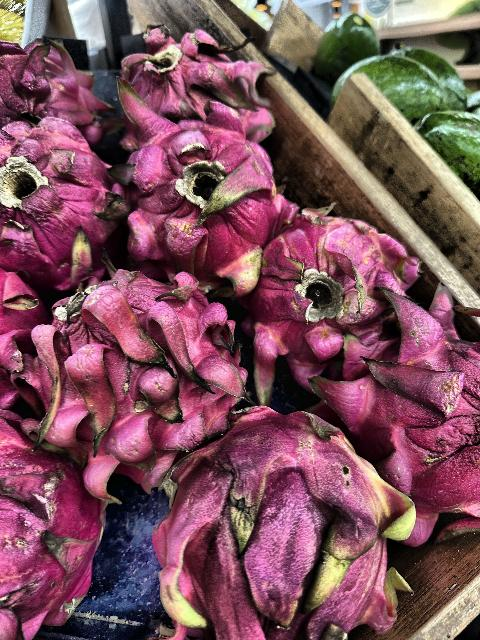buah-naga-belum-matang: (161, 402, 415, 640)
buah-naga-matang: (24, 271, 236, 469), (330, 315, 480, 531), (239, 196, 413, 364), (108, 104, 282, 268), (0, 416, 106, 634), (0, 103, 118, 277), (102, 30, 274, 130), (0, 45, 114, 147)
